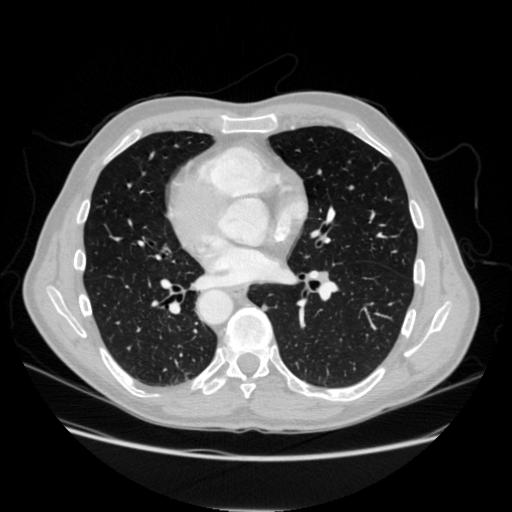nodule: (261, 302, 272, 313)
